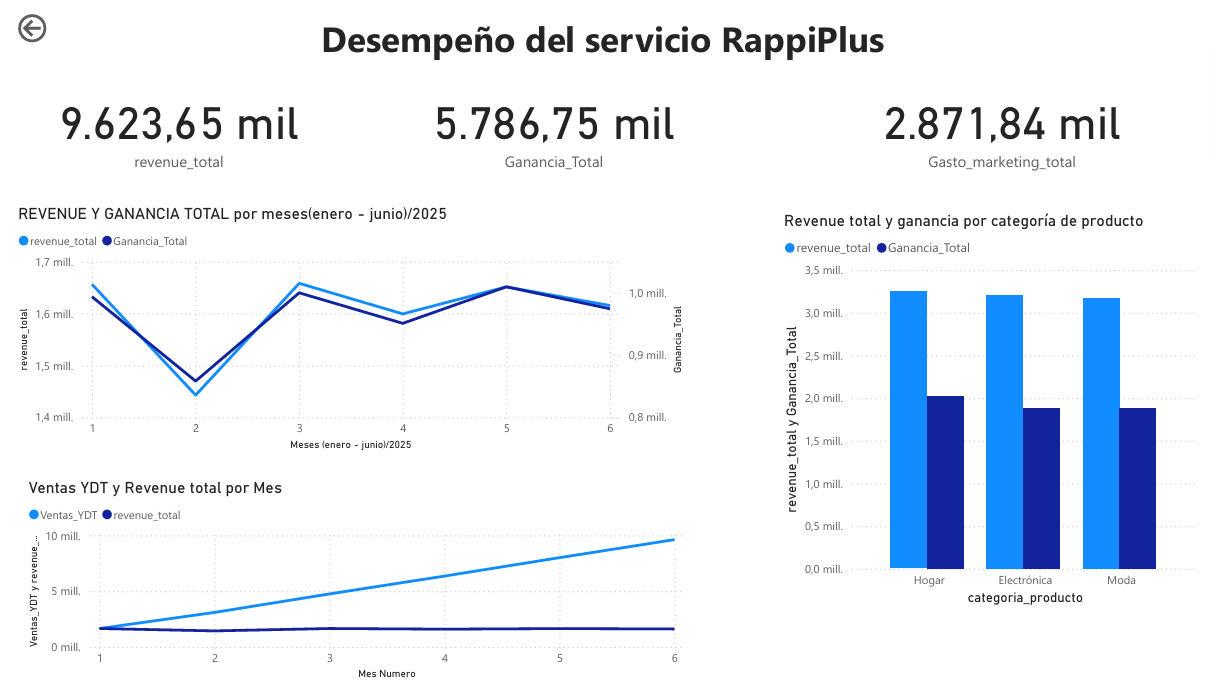

The dashboard page shown, as its layout file describes it:
{"tool":"powerbi","page":{"name":"Página 1","canvas":[1280,720],"ordinal":0},"visuals":[{"type":"textbox","box":[138.1,0,980.4,77.8],"z":0},{"type":"card","fields":{"Values":["orders.revenue_total"]},"box":[0,60.6,353.4,131.1],"z":0,"group":"g1"},{"type":"actionButton","box":[0,0,100,40],"z":1000},{"type":"card","fields":{"Values":["orders.Ganancia_Total"]},"box":[406.6,60.6,339.3,131.1],"z":1000,"group":"g1"},{"type":"group","id":"g1","title":"Grupo 1","box":[0,60.6,1259.8,131.2],"z":2000},{"type":"card","fields":{"Values":["marketing.Gasto_marketing_total"]},"box":[849.1,60.6,411.3,131.1],"z":2000,"group":"g1"},{"type":"lineChart","title":"REVENUE  Y GANANCIA TOTAL  por meses(enero - junio)/2025","fields":{"Y":["orders.revenue_total"],"Category":["Dim_Fecha.Mes Numero"],"Y2":["orders.Ganancia_Total"]},"box":[0,207.9,719.7,267.5],"z":3000},{"type":"lineChart","title":"Ventas YDT y Revenue total por Mes","fields":{"Y":["orders.Ventas_YDT","orders.revenue_total"],"Category":["Dim_Fecha.Mes Numero"]},"box":[11.1,499.7,708.6,220.1],"z":4000},{"type":"clusteredColumnChart","title":"Revenue total y ganancia por categoría de producto","fields":{"Category":["catalog.categoria_producto"],"Y":["orders.revenue_total","orders.Ganancia_Total"]},"box":[816.7,215,452.2,425],"z":5000}]}

Visuals, with their boxes in screenshot pixels (x1, y1, x2, y2), scaled from the page's 1280x720 canvas onto the 1217x697 screenshot:
textbox: bbox=(131, 0, 1063, 75)
card - orders.revenue_total: bbox=(0, 59, 336, 186)
actionButton: bbox=(0, 0, 95, 39)
card - orders.Ganancia_Total: bbox=(387, 59, 709, 186)
"Grupo 1" group: bbox=(0, 59, 1198, 186)
card - marketing.Gasto_marketing_total: bbox=(807, 59, 1198, 186)
"REVENUE  Y GANANCIA TOTAL  por meses(enero - junio)/2025" lineChart: bbox=(0, 201, 684, 460)
"Ventas YDT y Revenue total por Mes" lineChart: bbox=(11, 484, 684, 696)
"Revenue total y ganancia por categoría de producto" clusteredColumnChart: bbox=(777, 208, 1206, 620)
